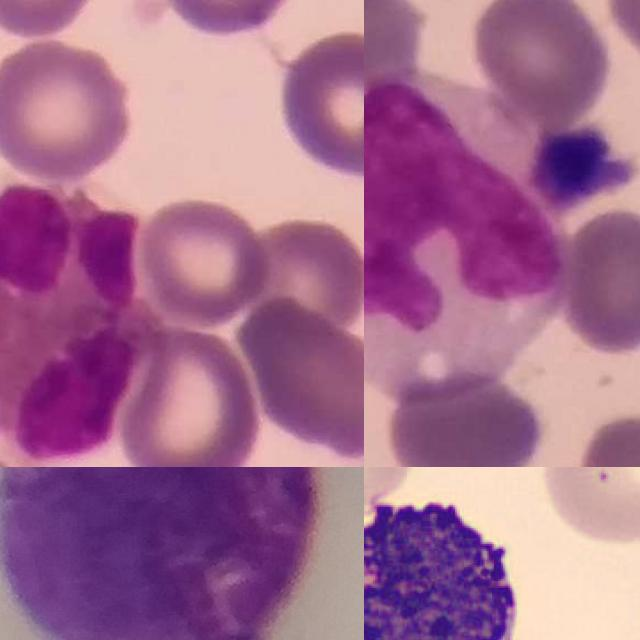Basophil: (0, 467, 321, 640), (364, 478, 536, 640)
Eosinophil: (0, 173, 155, 467)
Monocyte: (364, 73, 568, 376)
RBC: (531, 467, 640, 549)
